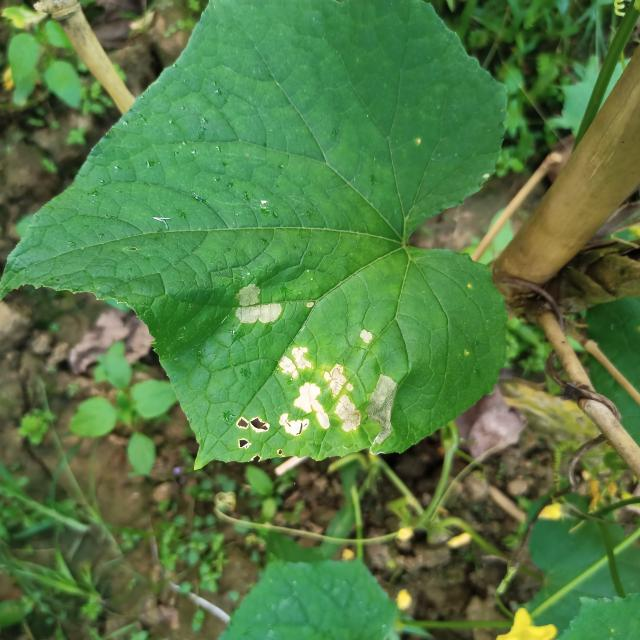disease_cucumber: (233, 343, 401, 451), (233, 283, 287, 330)
